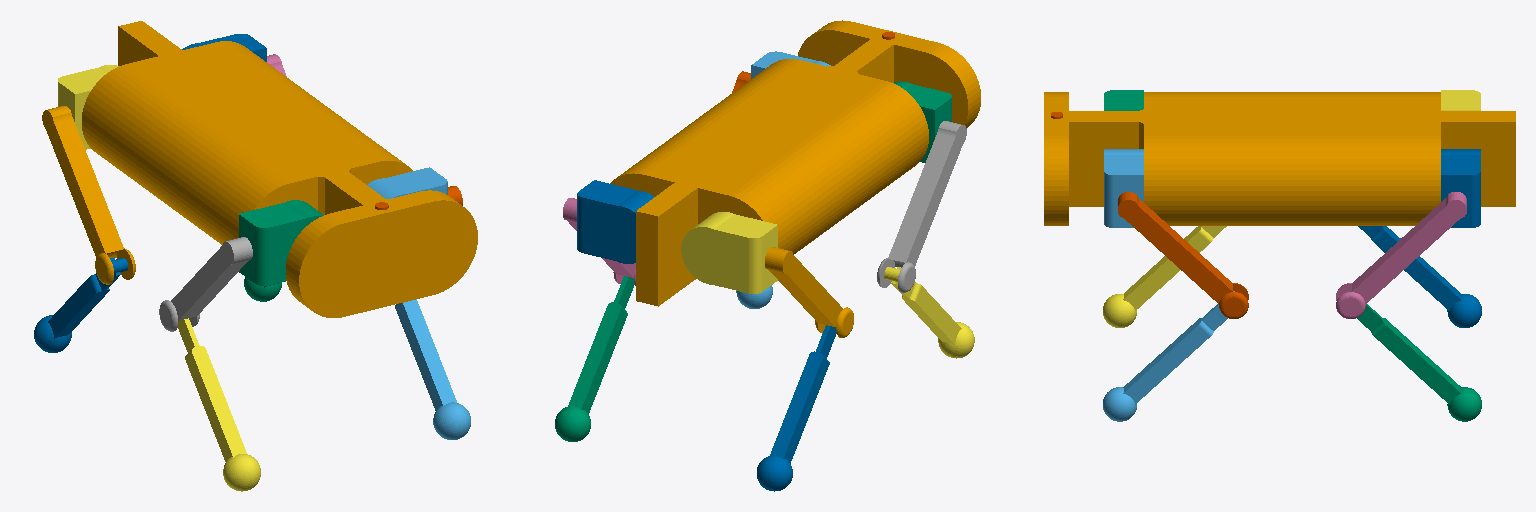
URDF robot description (quadruped):
<?xml version="1.0" ?>
<robot name="quadruped">

<material name="silver">
  <color rgba="0.700 0.700 0.700 1.000"/>
</material>

<material name="red">
  <color rgba="0.800 0.100 0.100 1.000"/>
</material>

<material name="white">
  <color rgba="1.000 1.000 1.000 1.000"/>
</material>

<material name="black">
  <color rgba="0.000 0.000 0.000 1.000"/>
</material>

<link name="base_link">
  <inertial>
    <origin xyz="2.9883837951735975e-06 -0.0352193863227606 -0.0008937025338958904" rpy="0 0 0"/>
    <mass value="5.0"/>
    <inertia ixx="2.3637541744923007" iyy="0.5410784956750033" izz="2.6632359673082435" ixy="-2.049789161165261e-06" iyz="9.783457932150286e-06" ixz="9.47338184441686e-11"/>
  </inertial>
  <visual>
    <origin xyz="0 0 0" rpy="0 0 0"/>
    <geometry>
      <mesh filename="meshes/base_link.stl" scale="0.001 0.001 0.001"/>
    </geometry>
    <material name="red"/>
    <material/>
  </visual>
  <collision>
    <origin xyz="0 0 0" rpy="0 0 0"/>
    <geometry>
      <mesh filename="meshes/base_link.stl" scale="0.001 0.001 0.001"/>
    </geometry>
  </collision>
</link>

<link name="hipFL1">
  <inertial>
    <origin xyz="0.028977503820283426 -0.03975403054885218 2.9445835077678787e-07" rpy="0 0 0"/>
    <mass value="0.5"/>
    <inertia ixx="0.002342166894850478" iyy="0.004594071312080641" izz="0.003793741704233744" ixy="-2.6653779135889233e-05" iyz="-5.421010862427522e-20" ixz="2.710505431213761e-20"/>
  </inertial>
  <visual>
    <origin xyz="-0.095003 0.300898 0.000895" rpy="0 0 0"/>
    <geometry>
      <mesh filename="meshes/hipFL1.stl" scale="0.001 0.001 0.001"/>
    </geometry>
    <material name="silver"/>
    <material/>
  </visual>
  <collision>
    <origin xyz="-0.095003 0.300898 0.000895" rpy="0 0 0"/>
    <geometry>
      <mesh filename="meshes/hipFL1.stl" scale="0.001 0.001 0.001"/>
    </geometry>
  </collision>
</link>

<link name="hipFR1">
  <inertial>
    <origin xyz="-0.028976862375981988 -0.03975403054885218 2.9445835078036574e-07" rpy="0 0 0"/>
    <mass value="0.5"/>
    <inertia ixx="0.002342166894850478" iyy="0.004594071312080651" izz="0.0037937417042337718" ixy="2.6653779135875355e-05" iyz="-5.421010862427522e-20" ixz="1.6263032587282567e-19"/>
  </inertial>
  <visual>
    <origin xyz="0.094997 0.300898 0.000895" rpy="0 0 0"/>
    <geometry>
      <mesh filename="meshes/hipFR1.stl" scale="0.001 0.001 0.001"/>
    </geometry>
    <material name="silver"/>
    <material/>
  </visual>
  <collision>
    <origin xyz="0.094997 0.300898 0.000895" rpy="0 0 0"/>
    <geometry>
      <mesh filename="meshes/hipFR1.stl" scale="0.001 0.001 0.001"/>
    </geometry>
  </collision>
</link>

<link name="hipBR1">
  <inertial>
    <origin xyz="-0.028976862375981988 0.039754605788009045 2.9445834466470654e-07" rpy="0 0 0"/>
    <mass value="0.5"/>
    <inertia ixx="0.002342166894850478" iyy="0.004594071312080634" izz="0.0037937417042337718" ixy="-2.6653779135861477e-05" iyz="-7.643625316022806e-18" ixz="8.131516293641283e-20"/>
  </inertial>
  <visual>
    <origin xyz="0.094997 -0.299102 0.000895" rpy="0 0 0"/>
    <geometry>
      <mesh filename="meshes/hipBR1.stl" scale="0.001 0.001 0.001"/>
    </geometry>
    <material name="silver"/>
    <material/>
  </visual>
  <collision>
    <origin xyz="0.094997 -0.299102 0.000895" rpy="0 0 0"/>
    <geometry>
      <mesh filename="meshes/hipBR1.stl" scale="0.001 0.001 0.001"/>
    </geometry>
  </collision>
</link>

<link name="hipBL1">
  <inertial>
    <origin xyz="0.028977503820283412 0.03975460578800899 2.9445834475046694e-07" rpy="0 0 0"/>
    <mass value="0.5"/>
    <inertia ixx="0.0023421668948504226" iyy="0.00459407131208063" izz="0.0037937417042337718" ixy="2.6653779135882294e-05" iyz="-7.697835424647081e-18" ixz="-2.981555974335137e-19"/>
  </inertial>
  <visual>
    <origin xyz="-0.095003 -0.299102 0.000895" rpy="0 0 0"/>
    <geometry>
      <mesh filename="meshes/hipBL1.stl" scale="0.001 0.001 0.001"/>
    </geometry>
    <material name="silver"/>
    <material/>
  </visual>
  <collision>
    <origin xyz="-0.095003 -0.299102 0.000895" rpy="0 0 0"/>
    <geometry>
      <mesh filename="meshes/hipBL1.stl" scale="0.001 0.001 0.001"/>
    </geometry>
  </collision>
</link>

<link name="legFL1">
  <inertial>
    <origin xyz="0.02000032072215055 0.10090759547150749 -0.10090701339357835" rpy="0 0 0"/>
    <mass value="2.5"/>
    <inertia ixx="0.004772247916842269" iyy="0.00247886840803669" izz="0.00247886840803669" ixy="-2.0816681711721685e-17" iyz="0.002313328837326425" ixz="-2.6020852139652106e-17"/>
  </inertial>
  <visual>
    <origin xyz="-0.203003 0.330898 0.000895" rpy="0 0 0"/>
    <geometry>
      <mesh filename="meshes/legFL1.stl" scale="0.001 0.001 0.001"/>
    </geometry>
    <material name="silver"/>
    <material/>
  </visual>
  <collision>
    <origin xyz="-0.203003 0.330898 0.000895" rpy="0 0 0"/>
    <geometry>
      <mesh filename="meshes/legFL1.stl" scale="0.001 0.001 0.001"/>
    </geometry>
  </collision>
</link>

<link name="legBl1">
  <inertial>
    <origin xyz="0.02000032072215069 -0.1009070202323514 -0.1009070133935831" rpy="0 0 0"/>
    <mass value="2.5"/>
    <inertia ixx="0.004772247916842262" iyy="0.0024788684080366413" izz="0.0024788684080367246" ixy="-3.122502256758253e-17" iyz="-0.0023133288373264234" ixz="2.42861286636753e-17"/>
  </inertial>
  <visual>
    <origin xyz="-0.203003 -0.329102 0.000895" rpy="0 0 0"/>
    <geometry>
      <mesh filename="meshes/legBl1.stl" scale="0.001 0.001 0.001"/>
    </geometry>
    <material name="silver"/>
    <material/>
  </visual>
  <collision>
    <origin xyz="-0.203003 -0.329102 0.000895" rpy="0 0 0"/>
    <geometry>
      <mesh filename="meshes/legBl1.stl" scale="0.001 0.001 0.001"/>
    </geometry>
  </collision>
</link>

<link name="legFR1">
  <inertial>
    <origin xyz="-0.019999679277848986 0.10090759547150754 -0.10090701339357805" rpy="0 0 0"/>
    <mass value="2.5"/>
    <inertia ixx="0.004772247916842248" iyy="0.0024788684080366864" izz="0.002478868408036697" ixy="-2.0816681711721685e-17" iyz="0.002313328837326427" ixz="-2.42861286636753e-17"/>
  </inertial>
  <visual>
    <origin xyz="0.202997 0.330898 0.000895" rpy="0 0 0"/>
    <geometry>
      <mesh filename="meshes/legFR1.stl" scale="0.001 0.001 0.001"/>
    </geometry>
    <material name="silver"/>
    <material/>
  </visual>
  <collision>
    <origin xyz="0.202997 0.330898 0.000895" rpy="0 0 0"/>
    <geometry>
      <mesh filename="meshes/legFR1.stl" scale="0.001 0.001 0.001"/>
    </geometry>
  </collision>
</link>

<link name="legBR1">
  <inertial>
    <origin xyz="-0.019999679277849014 -0.10090702023235151 -0.10090701339358316" rpy="0 0 0"/>
    <mass value="2.5"/>
    <inertia ixx="0.004772247916842262" iyy="0.0024788684080366587" izz="0.0024788684080367454" ixy="-2.42861286636753e-17" iyz="-0.0023133288373264234" ixz="2.7755575615628914e-17"/>
  </inertial>
  <visual>
    <origin xyz="0.202997 -0.329102 0.000895" rpy="0 0 0"/>
    <geometry>
      <mesh filename="meshes/legBR1.stl" scale="0.001 0.001 0.001"/>
    </geometry>
    <material name="silver"/>
    <material/>
  </visual>
  <collision>
    <origin xyz="0.202997 -0.329102 0.000895" rpy="0 0 0"/>
    <geometry>
      <mesh filename="meshes/legBR1.stl" scale="0.001 0.001 0.001"/>
    </geometry>
  </collision>
</link>

<link name="calfFL1">
  <inertial>
    <origin xyz="0.02000032072215055 -0.15900894998446663 -0.15900901185762253" rpy="0 0 0"/>
    <mass value="2.5"/>
    <inertia ixx="0.004983917496161783" iyy="0.002555772925631916" izz="0.0025557729256318953" ixy="-3.469446951953614e-18" iyz="-0.002421268606464841" ixz="0.0"/>
  </inertial>
  <visual>
    <origin xyz="-0.203003 0.118766 0.213027" rpy="0 0 0"/>
    <geometry>
      <mesh filename="meshes/calfFL1.stl" scale="0.001 0.001 0.001"/>
    </geometry>
    <material name="white"/>
    <material/>
  </visual>
  <collision>
    <origin xyz="-0.203003 0.118766 0.213027" rpy="0 0 0"/>
    <geometry>
      <mesh filename="meshes/calfFL1.stl" scale="0.001 0.001 0.001"/>
    </geometry>
  </collision>
</link>

<link name="calfBL1">
  <inertial>
    <origin xyz="0.020000320722150577 0.15900952522361989 -0.1590090118576277" rpy="0 0 0"/>
    <mass value="2.5"/>
    <inertia ixx="0.004983917496161824" iyy="0.002555772925631958" izz="0.0025557729256318745" ixy="0.0" iyz="0.002421268606464848" ixz="0.0"/>
  </inertial>
  <visual>
    <origin xyz="-0.203003 -0.11697 0.213027" rpy="0 0 0"/>
    <geometry>
      <mesh filename="meshes/calfBL1.stl" scale="0.001 0.001 0.001"/>
    </geometry>
    <material name="white"/>
    <material/>
  </visual>
  <collision>
    <origin xyz="-0.203003 -0.11697 0.213027" rpy="0 0 0"/>
    <geometry>
      <mesh filename="meshes/calfBL1.stl" scale="0.001 0.001 0.001"/>
    </geometry>
  </collision>
</link>

<link name="calfFR1">
  <inertial>
    <origin xyz="-0.019999679277849014 -0.15900894998446635 -0.15900901185762226" rpy="0 0 0"/>
    <mass value="2.5"/>
    <inertia ixx="0.0049839174961618105" iyy="0.0025557729256318884" izz="0.0025557729256318953" ixy="6.938893903907228e-18" iyz="-0.002421268606464848" ixz="6.938893903907228e-18"/>
  </inertial>
  <visual>
    <origin xyz="0.202997 0.118766 0.213027" rpy="0 0 0"/>
    <geometry>
      <mesh filename="meshes/calfFR1.stl" scale="0.001 0.001 0.001"/>
    </geometry>
    <material name="white"/>
    <material/>
  </visual>
  <collision>
    <origin xyz="0.202997 0.118766 0.213027" rpy="0 0 0"/>
    <geometry>
      <mesh filename="meshes/calfFR1.stl" scale="0.001 0.001 0.001"/>
    </geometry>
  </collision>
</link>

<link name="calfBR1">
  <inertial>
    <origin xyz="-0.019999679277849014 0.15900952522361983 -0.15900901185762803" rpy="0 0 0"/>
    <mass value="2.5"/>
    <inertia ixx="0.004983917496161797" iyy="0.002555772925631944" izz="0.0025557729256318468" ixy="-3.469446951953614e-18" iyz="0.002421268606464834" ixz="0.0"/>
  </inertial>
  <visual>
    <origin xyz="0.202997 -0.11697 0.213027" rpy="0 0 0"/>
    <geometry>
      <mesh filename="meshes/calfBR1.stl" scale="0.001 0.001 0.001"/>
    </geometry>
    <material name="white"/>
    <material/>
  </visual>
  <collision>
    <origin xyz="0.202997 -0.11697 0.213027" rpy="0 0 0"/>
    <geometry>
      <mesh filename="meshes/calfBR1.stl" scale="0.001 0.001 0.001"/>
    </geometry>
  </collision>
</link>

<link name="lidar1">
  <inertial>
    <origin xyz="-1.8093822187881343e-18 0.10000028761957935 0.4775002944583526" rpy="0 0 0"/>
    <mass value="0.02"/>
    <inertia ixx="7.927484880062771e-07" iyy="7.927484880060332e-07" izz="1.5052186481132393e-06" ixy="-1.0458300891968946e-21" iyz="0.0" ixz="8.715250743307518e-23"/>
  </inertial>
  <visual>
    <origin xyz="-0.0 0.575898 0.380895" rpy="0 0 0"/>
    <geometry>
      <mesh filename="meshes/lidar1.stl" scale="0.001 0.001 0.001"/>
    </geometry>
    <material name="black"/>
    <material/>
  </visual>
  <collision>
    <origin xyz="-0.0 0.575898 0.380895" rpy="0 0 0"/>
    <geometry>
      <mesh filename="meshes/lidar1.stl" scale="0.001 0.001 0.001"/>
    </geometry>
  </collision>
</link>

<joint name="hipjointFL" type="continuous">
  <origin xyz="0.095003 -0.300898 -0.000895" rpy="0 0 0"/>
  <parent link="base_link"/>
  <child link="hipFL1"/>
  <axis xyz="-0.0 -1.0 0.0"/>
</joint>
<transmission name="hipjointFL_tran">
  <type>transmission_interface/SimpleTransmission</type>
  <joint name="hipjointFL">
    <hardwareInterface>PositionJointInterface</hardwareInterface>
  </joint>
  <actuator name="hipjointFL_actr">
    <hardwareInterface>PositionJointInterface</hardwareInterface>
    <mechanicalReduction>1</mechanicalReduction>
  </actuator>
</transmission>

<joint name="hipjointFR" type="continuous">
  <origin xyz="-0.094997 -0.300898 -0.000895" rpy="0 0 0"/>
  <parent link="base_link"/>
  <child link="hipFR1"/>
  <axis xyz="-0.0 -1.0 0.0"/>
</joint>
<transmission name="hipjointFR_tran">
  <type>transmission_interface/SimpleTransmission</type>
  <joint name="hipjointFR">
    <hardwareInterface>PositionJointInterface</hardwareInterface>
  </joint>
  <actuator name="hipjointFR_actr">
    <hardwareInterface>PositionJointInterface</hardwareInterface>
    <mechanicalReduction>1</mechanicalReduction>
  </actuator>
</transmission>

<joint name="hipjointBR" type="continuous">
  <origin xyz="-0.094997 0.299102 -0.000895" rpy="0 0 0"/>
  <parent link="base_link"/>
  <child link="hipBR1"/>
  <axis xyz="-0.0 -1.0 0.0"/>
</joint>
<transmission name="hipjointBR_tran">
  <type>transmission_interface/SimpleTransmission</type>
  <joint name="hipjointBR">
    <hardwareInterface>PositionJointInterface</hardwareInterface>
  </joint>
  <actuator name="hipjointBR_actr">
    <hardwareInterface>PositionJointInterface</hardwareInterface>
    <mechanicalReduction>1</mechanicalReduction>
  </actuator>
</transmission>

<joint name="hipjointBL" type="continuous">
  <origin xyz="0.095003 0.299102 -0.000895" rpy="0 0 0"/>
  <parent link="base_link"/>
  <child link="hipBL1"/>
  <axis xyz="-0.0 -1.0 0.0"/>
</joint>
<transmission name="hipjointBL_tran">
  <type>transmission_interface/SimpleTransmission</type>
  <joint name="hipjointBL">
    <hardwareInterface>PositionJointInterface</hardwareInterface>
  </joint>
  <actuator name="hipjointBL_actr">
    <hardwareInterface>PositionJointInterface</hardwareInterface>
    <mechanicalReduction>1</mechanicalReduction>
  </actuator>
</transmission>

<joint name="Revolute_6" type="continuous">
  <origin xyz="0.108 -0.03 0.0" rpy="0 0 0"/>
  <parent link="hipFL1"/>
  <child link="legFL1"/>
  <axis xyz="1.0 0.0 0.0"/>
</joint>
<transmission name="Revolute_6_tran">
  <type>transmission_interface/SimpleTransmission</type>
  <joint name="Revolute_6">
    <hardwareInterface>PositionJointInterface</hardwareInterface>
  </joint>
  <actuator name="Revolute_6_actr">
    <hardwareInterface>PositionJointInterface</hardwareInterface>
    <mechanicalReduction>1</mechanicalReduction>
  </actuator>
</transmission>

<joint name="Revolute_7" type="continuous">
  <origin xyz="0.108 0.03 0.0" rpy="0 0 0"/>
  <parent link="hipBL1"/>
  <child link="legBl1"/>
  <axis xyz="1.0 -0.0 0.0"/>
</joint>
<transmission name="Revolute_7_tran">
  <type>transmission_interface/SimpleTransmission</type>
  <joint name="Revolute_7">
    <hardwareInterface>PositionJointInterface</hardwareInterface>
  </joint>
  <actuator name="Revolute_7_actr">
    <hardwareInterface>PositionJointInterface</hardwareInterface>
    <mechanicalReduction>1</mechanicalReduction>
  </actuator>
</transmission>

<joint name="Revolute_8" type="continuous">
  <origin xyz="-0.108 -0.03 0.0" rpy="0 0 0"/>
  <parent link="hipFR1"/>
  <child link="legFR1"/>
  <axis xyz="-1.0 0.0 0.0"/>
</joint>
<transmission name="Revolute_8_tran">
  <type>transmission_interface/SimpleTransmission</type>
  <joint name="Revolute_8">
    <hardwareInterface>PositionJointInterface</hardwareInterface>
  </joint>
  <actuator name="Revolute_8_actr">
    <hardwareInterface>PositionJointInterface</hardwareInterface>
    <mechanicalReduction>1</mechanicalReduction>
  </actuator>
</transmission>

<joint name="Revolute_9" type="continuous">
  <origin xyz="-0.108 0.03 0.0" rpy="0 0 0"/>
  <parent link="hipBR1"/>
  <child link="legBR1"/>
  <axis xyz="-1.0 0.0 -0.0"/>
</joint>
<transmission name="Revolute_9_tran">
  <type>transmission_interface/SimpleTransmission</type>
  <joint name="Revolute_9">
    <hardwareInterface>PositionJointInterface</hardwareInterface>
  </joint>
  <actuator name="Revolute_9_actr">
    <hardwareInterface>PositionJointInterface</hardwareInterface>
    <mechanicalReduction>1</mechanicalReduction>
  </actuator>
</transmission>

<joint name="Revolute_10" type="continuous">
  <origin xyz="0.0 0.212132 -0.212132" rpy="0 0 0"/>
  <parent link="legFL1"/>
  <child link="calfFL1"/>
  <axis xyz="1.0 -0.0 0.0"/>
</joint>
<transmission name="Revolute_10_tran">
  <type>transmission_interface/SimpleTransmission</type>
  <joint name="Revolute_10">
    <hardwareInterface>PositionJointInterface</hardwareInterface>
  </joint>
  <actuator name="Revolute_10_actr">
    <hardwareInterface>PositionJointInterface</hardwareInterface>
    <mechanicalReduction>1</mechanicalReduction>
  </actuator>
</transmission>

<joint name="Revolute_11" type="continuous">
  <origin xyz="0.0 -0.212132 -0.212132" rpy="0 0 0"/>
  <parent link="legBl1"/>
  <child link="calfBL1"/>
  <axis xyz="1.0 -0.0 -0.0"/>
</joint>
<transmission name="Revolute_11_tran">
  <type>transmission_interface/SimpleTransmission</type>
  <joint name="Revolute_11">
    <hardwareInterface>PositionJointInterface</hardwareInterface>
  </joint>
  <actuator name="Revolute_11_actr">
    <hardwareInterface>PositionJointInterface</hardwareInterface>
    <mechanicalReduction>1</mechanicalReduction>
  </actuator>
</transmission>

<joint name="Revolute_12" type="continuous">
  <origin xyz="0.0 0.212132 -0.212132" rpy="0 0 0"/>
  <parent link="legFR1"/>
  <child link="calfFR1"/>
  <axis xyz="-1.0 0.0 0.0"/>
</joint>
<transmission name="Revolute_12_tran">
  <type>transmission_interface/SimpleTransmission</type>
  <joint name="Revolute_12">
    <hardwareInterface>PositionJointInterface</hardwareInterface>
  </joint>
  <actuator name="Revolute_12_actr">
    <hardwareInterface>PositionJointInterface</hardwareInterface>
    <mechanicalReduction>1</mechanicalReduction>
  </actuator>
</transmission>

<joint name="Revolute_13" type="continuous">
  <origin xyz="0.0 -0.212132 -0.212132" rpy="0 0 0"/>
  <parent link="legBR1"/>
  <child link="calfBR1"/>
  <axis xyz="-1.0 0.0 -0.0"/>
</joint>
<transmission name="Revolute_13_tran">
  <type>transmission_interface/SimpleTransmission</type>
  <joint name="Revolute_13">
    <hardwareInterface>PositionJointInterface</hardwareInterface>
  </joint>
  <actuator name="Revolute_13_actr">
    <hardwareInterface>PositionJointInterface</hardwareInterface>
    <mechanicalReduction>1</mechanicalReduction>
  </actuator>
</transmission>

<joint name="Rigid_14" type="fixed">
  <origin xyz="0.0 -0.575898 -0.380895" rpy="0 0 0"/>
  <parent link="base_link"/>
  <child link="lidar1"/>
</joint>

</robot>

--- Facts derived from the render (not from the file) ---
3 views of the same robot in one strip: view 1: azimuth 30°, elevation 25°; view 2: azimuth 150°, elevation 25°; view 3: azimuth 270°, elevation 25° (orthographic).
Model quadruped with 14 links and 13 joints (12 continuous, 1 fixed), rooted at base_link, posed all joints at 0.
Visible links, largest first — view 1: base_link, legBR1, calfFR1, hipFR1, calfFL1, legFR1, calfBR1, hipBR1, hipFL1, hipBL1, calfBL1; view 2: base_link, hipBR1, legFR1, hipBL1, calfBR1, calfBL1, legBR1, calfFR1, hipFR1, legBl1, hipFL1; view 3: base_link, legBl1, legFL1, calfBL1, calfFL1, calfBR1, calfFR1, hipFL1, hipBL1, hipBR1, hipFR1.
Boxes of the visible links, <box> form: base_link: <box>82,21,477,317</box>; legBR1: <box>42,106,135,284</box>; calfFR1: <box>178,318,260,491</box>; hipFR1: <box>239,200,323,285</box>; calfFL1: <box>395,299,470,439</box>; legFR1: <box>159,237,252,331</box>; calfBR1: <box>34,257,127,352</box>; hipBR1: <box>58,65,118,149</box>; hipFL1: <box>367,167,447,198</box>; hipBL1: <box>182,34,266,61</box>; calfBL1: <box>244,277,281,301</box>; base_link: <box>610,20,980,306</box>; hipBR1: <box>681,212,777,293</box>; legFR1: <box>877,121,966,292</box>; hipBL1: <box>577,180,653,263</box>; calfBR1: <box>757,325,836,491</box>; calfBL1: <box>555,276,634,441</box>; legBR1: <box>765,247,853,337</box>; calfFR1: <box>884,267,974,358</box>; hipFR1: <box>894,81,951,162</box>; legBl1: <box>563,198,635,285</box>; hipFL1: <box>751,51,830,78</box>; base_link: <box>1044,92,1515,225</box>; legBl1: <box>1336,192,1466,318</box>; legFL1: <box>1118,192,1248,318</box>; calfBL1: <box>1350,291,1481,421</box>; calfFL1: <box>1103,291,1234,421</box>; calfBR1: <box>1358,226,1481,327</box>; calfFR1: <box>1103,226,1226,327</box>; hipFL1: <box>1104,149,1143,227</box>; hipBL1: <box>1441,149,1480,227</box>; hipBR1: <box>1441,90,1480,110</box>; hipFR1: <box>1104,90,1143,110</box>.
Bounding box of the posed robot: 0.516 × 0.95 × 0.5769 m (x, y, z).
14 mesh visuals loaded from 14 distinct referenced files (14 binary STL).